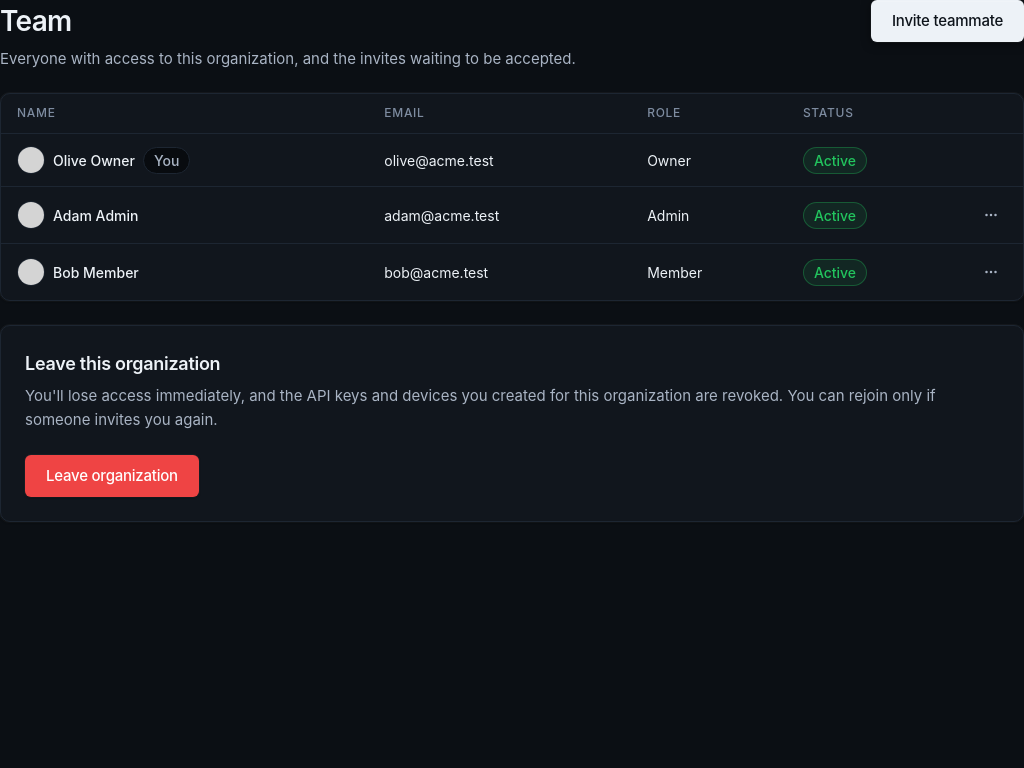
it: TeamManager — invites › surfaces a server rejection as an error, without a link
The width and height of the screenshot is (1024, 768).
Click the button "Invite teammate": (948, 21) [871,0,1023,42]
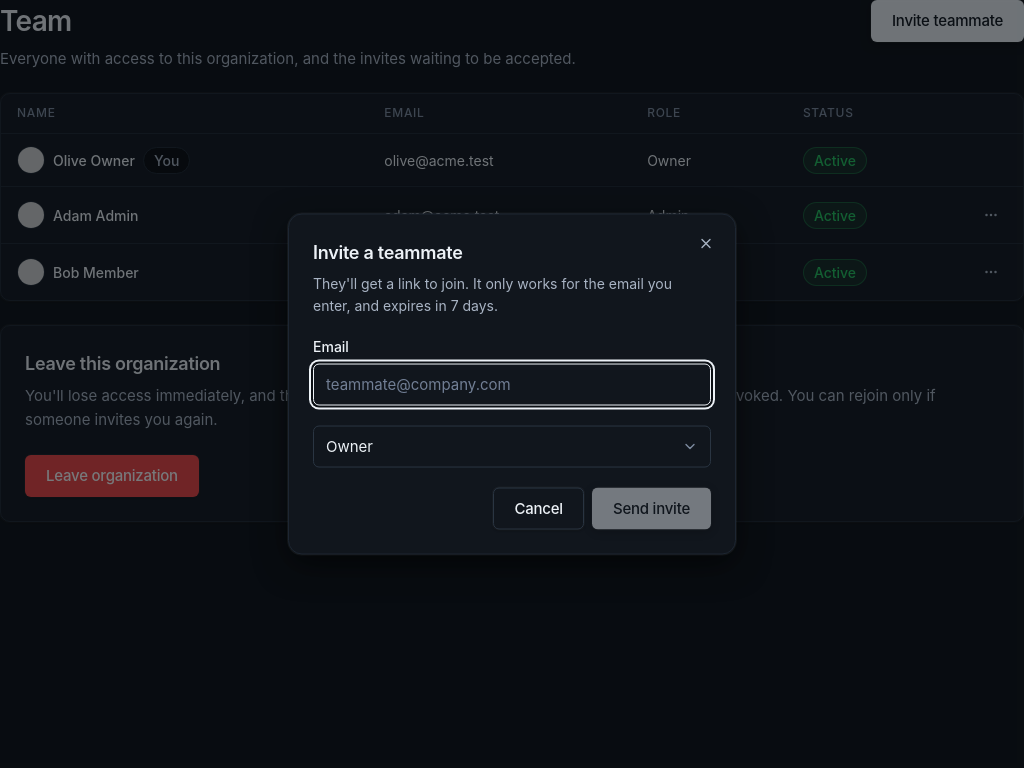
In the field labelled "Email": (512, 384) [313,364,711,406], type "bob@acme.test"
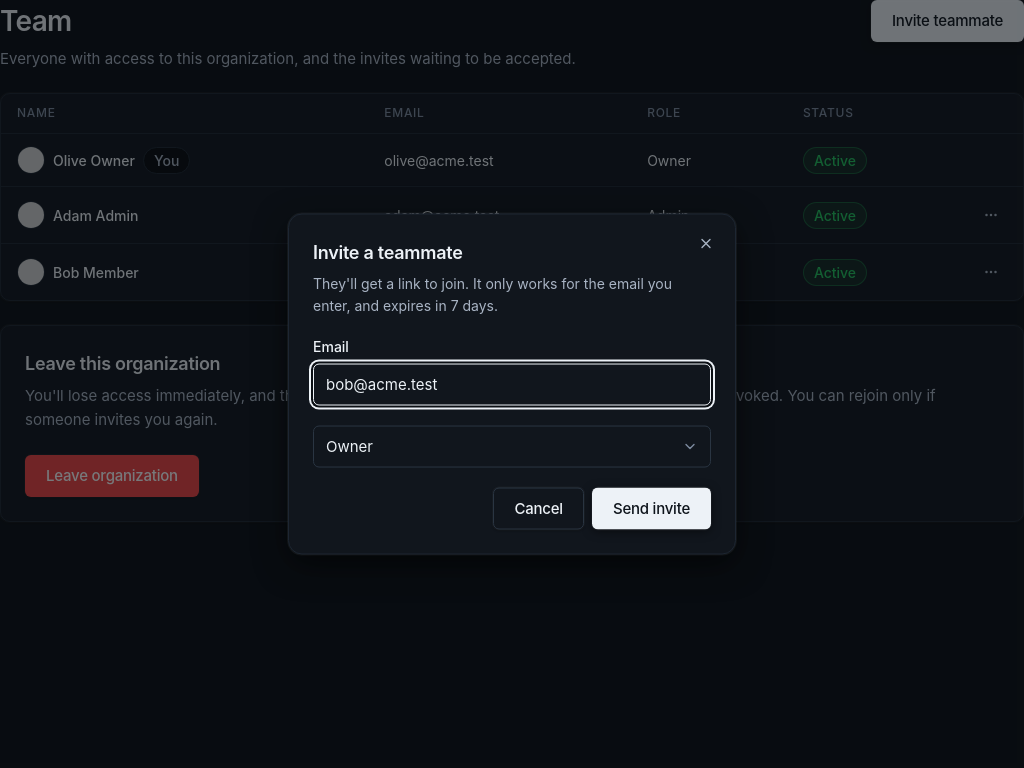
Click the button "Send invite": (651, 508) [592,488,711,530]
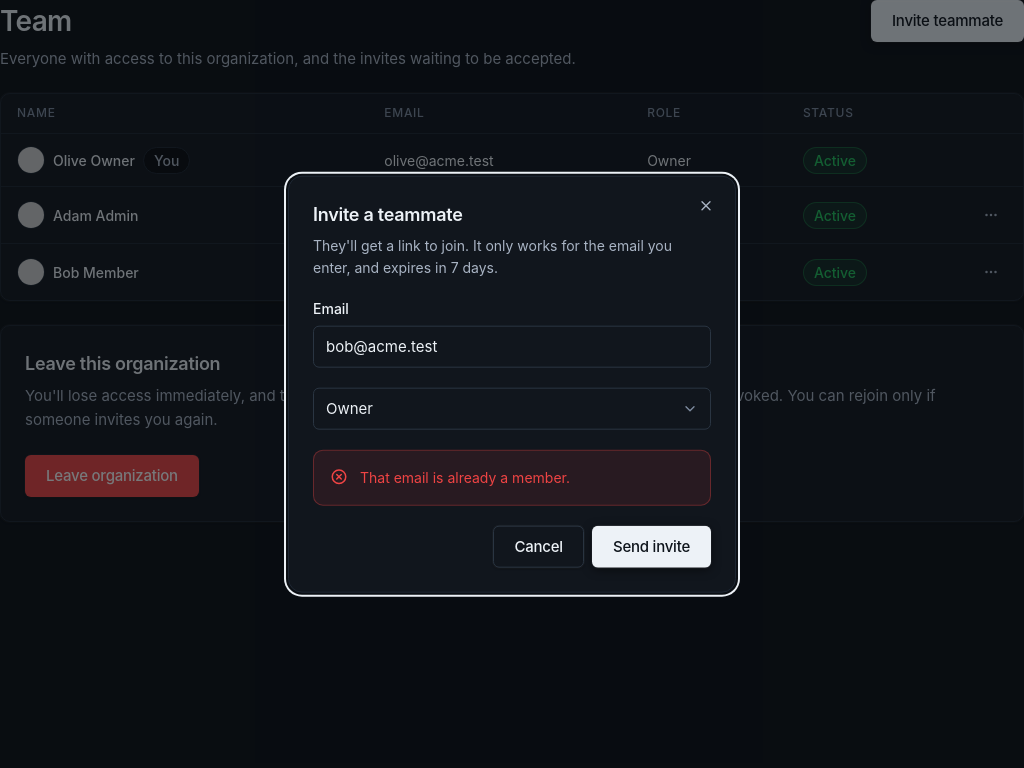
Expected: the text "That email is already a member." is shown, [360,469,570,486]
